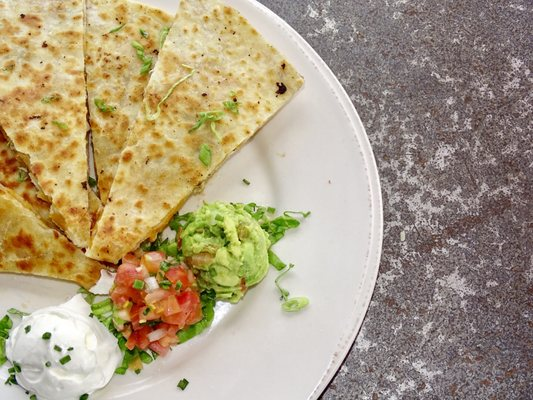curry: (2, 0, 530, 400)
sandwich: (1, 0, 309, 267)
